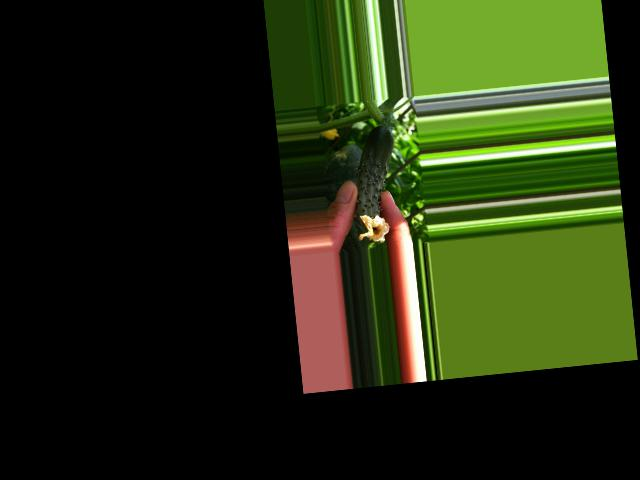cucumber: (347, 124, 403, 243)
